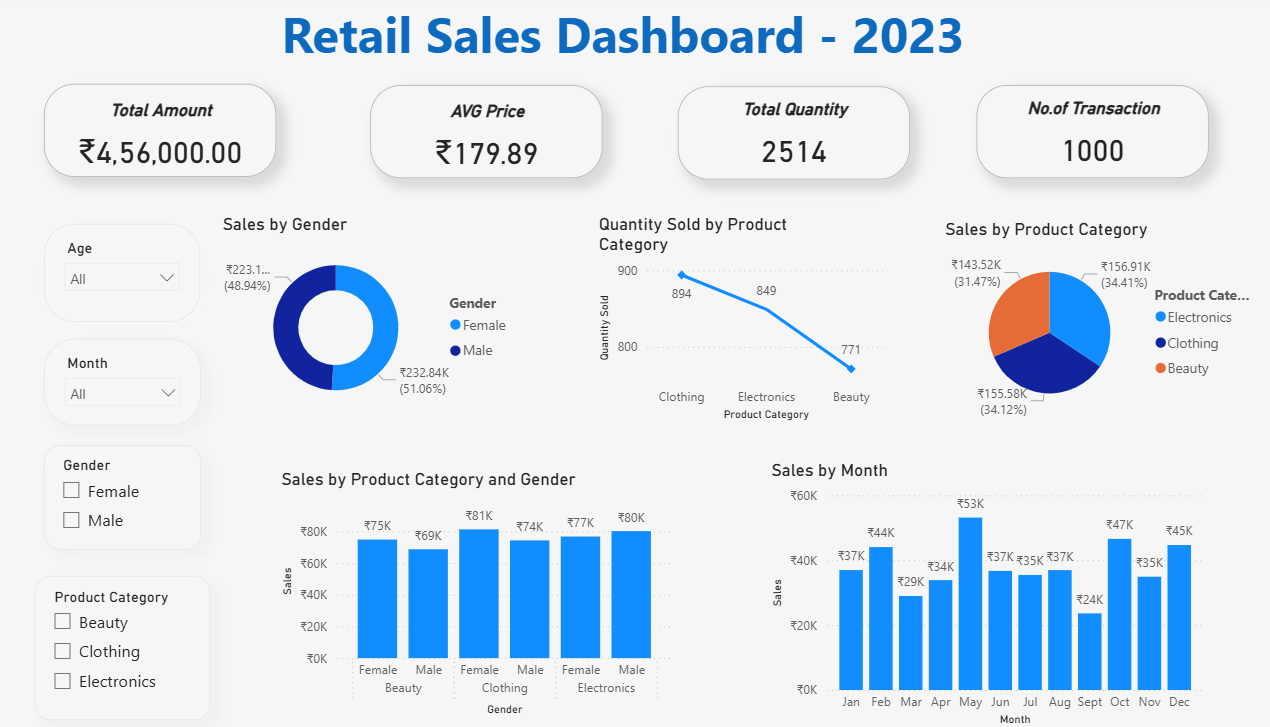

The dashboard page shown, as its layout file describes it:
{"tool":"powerbi","page":{"name":"Page 1","canvas":[1280,720],"ordinal":0},"visuals":[{"type":"textbox","box":[10,0,1270,75.7],"z":0},{"type":"columnChart","fields":{"Y":["Sum(retail_sales_dataset.Total Amount)"],"Category":["retail_sales_dataset.Month_"]},"box":[785,455,432.5,265],"z":1000},{"type":"lineChart","fields":{"Y":["Sum(retail_sales_dataset.Quantity)"],"Category":["retail_sales_dataset.Product Category"]},"box":[616.2,213.8,290,207.5],"z":2000},{"type":"donutChart","fields":{"Y":["Sum(retail_sales_dataset.Total Amount)"],"Category":["retail_sales_dataset.Gender"]},"box":[248.8,213.8,297.5,202.5],"z":3000},{"type":"pieChart","fields":{"Category":["retail_sales_dataset.Product Category"],"Y":["Sum(retail_sales_dataset.Total Amount)"]},"box":[955,218.8,316.2,202.5],"z":4000},{"type":"clusteredColumnChart","fields":{"Y":["Sum(retail_sales_dataset.Total Amount)"],"Category":["retail_sales_dataset.Product Category","retail_sales_dataset.Gender"]},"box":[306.2,463.8,392.5,246.2],"z":5000},{"type":"kpi","title":"Total Amount","fields":{"Indicator":["Sum(retail_sales_dataset.Total Amount)"],"TrendLine":["retail_sales_dataset.Product Category"]},"box":[78.8,86.2,227.5,91.2],"z":6000},{"type":"kpi","title":"AVG Price","fields":{"Indicator":["retail_sales_dataset.Measure 2"],"TrendLine":["retail_sales_dataset.Quantity"]},"box":[397.5,87.5,227.5,91.2],"z":7000},{"type":"kpi","title":"Total Quantity","fields":{"TrendLine":["retail_sales_dataset.Quantity"],"Indicator":["retail_sales_dataset.Measure 3"]},"box":[698.8,88.8,227.5,91.2],"z":8000},{"type":"kpi","title":"No.of Transaction","fields":{"Indicator":["CountNonNull(retail_sales_dataset.Transaction ID)"],"TrendLine":["retail_sales_dataset.Gender (groups)"]},"box":[990,87.5,227.5,91.2],"z":9000},{"type":"slicer","fields":{"Values":["retail_sales_dataset.Age_"]},"box":[78.8,223.8,152.5,96.2],"z":10000},{"type":"actionButton","box":[0,0,100,40],"z":11000},{"type":"slicer","fields":{"Values":["retail_sales_dataset.Gender"]},"box":[78.8,440,153.8,102.5],"z":11001},{"type":"slicer","fields":{"Values":["retail_sales_dataset.Month_"]},"box":[78.8,336.2,153.8,85],"z":11002},{"type":"slicer","fields":{"Values":["retail_sales_dataset.Product Category"]},"box":[77.5,587.5,153.8,122.5],"z":11003}]}

Visuals, with their boxes in screenshot pixels (x1, y1, x2, y2), scaled from the page's 1280x720 canvas onto the 1270x727 screenshot:
textbox: box(10, 0, 1269, 76)
columnChart - Sum(retail_sales_dataset.Total Amount) x retail_sales_dataset.Month_: box(779, 459, 1208, 726)
lineChart - Sum(retail_sales_dataset.Quantity) x retail_sales_dataset.Product Category: box(611, 216, 899, 425)
donutChart - Sum(retail_sales_dataset.Total Amount) x retail_sales_dataset.Gender: box(247, 216, 542, 420)
pieChart - retail_sales_dataset.Product Category x Sum(retail_sales_dataset.Total Amount): box(948, 221, 1261, 425)
clusteredColumnChart - Sum(retail_sales_dataset.Total Amount) x retail_sales_dataset.Product Category: box(304, 468, 693, 717)
"Total Amount" kpi: box(78, 87, 304, 179)
"AVG Price" kpi: box(394, 88, 620, 180)
"Total Quantity" kpi: box(693, 90, 919, 182)
"No.of Transaction" kpi: box(982, 88, 1208, 180)
slicer - retail_sales_dataset.Age_: box(78, 226, 229, 323)
actionButton: box(0, 0, 99, 40)
slicer - retail_sales_dataset.Gender: box(78, 444, 231, 548)
slicer - retail_sales_dataset.Month_: box(78, 339, 231, 425)
slicer - retail_sales_dataset.Product Category: box(77, 593, 229, 717)
